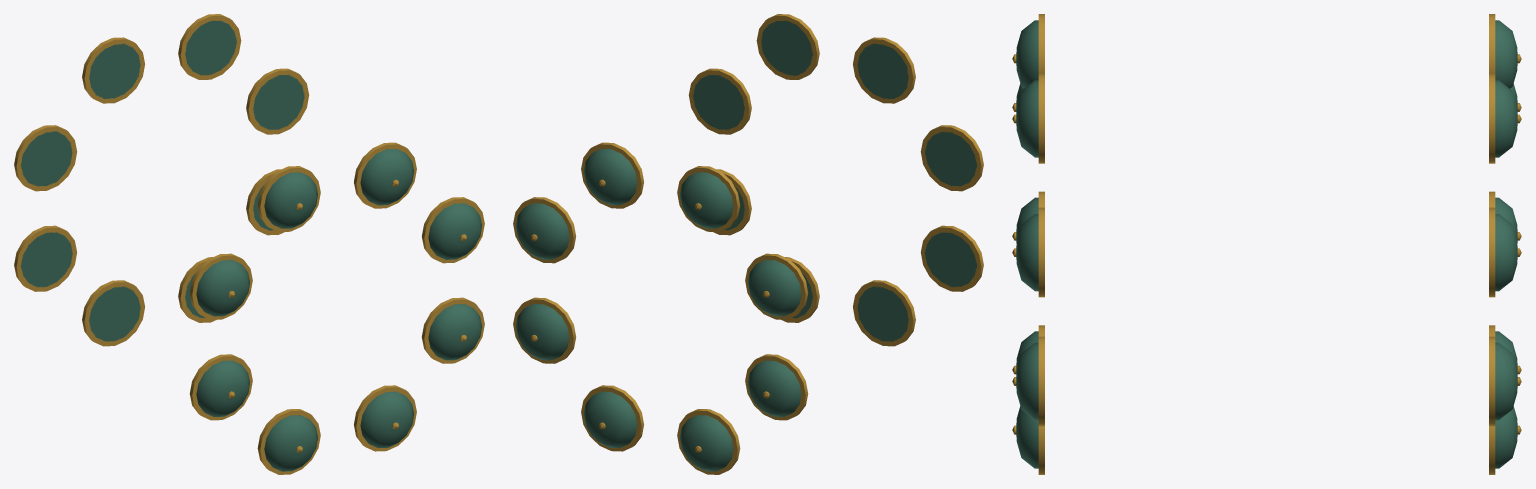
Rendered from h5_dampers.obj.
The picture shows the model from 3 angles, left to right: view 1: azimuth 30°, elevation 25°; view 2: azimuth 150°, elevation 25°; view 3: azimuth 270°, elevation 25°; orthographic projection. The views are drawn at different scales.
Parts seen in each view (by area): view 1: h5_dampers; view 2: h5_dampers; view 3: h5_dampers.
Boxes of the visible parts, <box> form: h5_dampers: <box>14,14,484,474</box>; h5_dampers: <box>513,14,983,474</box>; h5_dampers: <box>1012,14,1521,474</box>.
Bounding box in the file's own units: 2.08 × 2.08 × 2.45.
